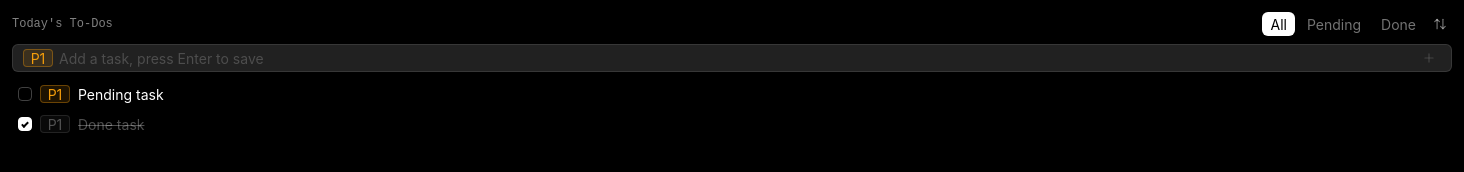
HeaderSchedulePanel › 状态过滤切换：待完成 / 已完成
The width and height of the screenshot is (1464, 172).
Check: the button "Pending task" is shown, box [78,84,1386,104]
Check: the button "Done task" is shown, box [78,114,1386,134]
Click the button "Pending": (1334, 24) [1299,12,1369,36]
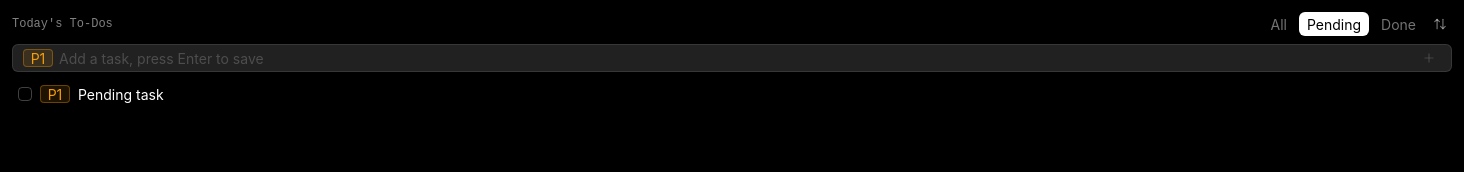
Check: the button "Pending task" is shown, box [78,84,1386,104]
Check: the button "Done task" is gone
Click the button "Done": (1399, 24) [1373,12,1424,36]
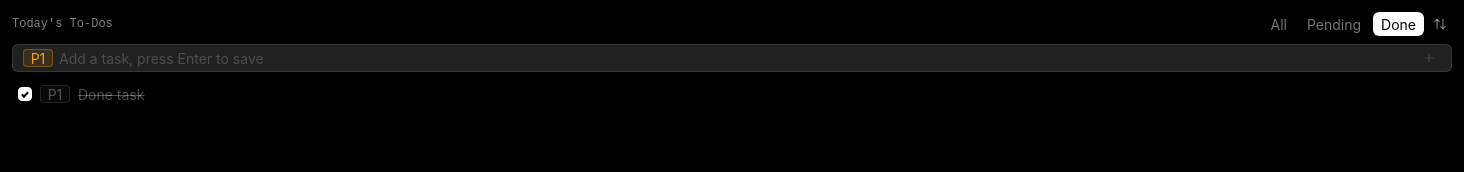
Check: the button "Pending task" is gone
Check: the button "Done task" is shown, box [78,84,1386,104]
Click the button "All": (1279, 24) [1262,12,1295,36]
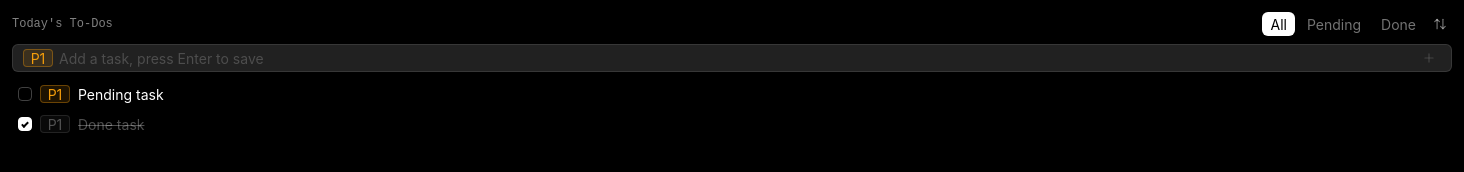
Check: the button "Done task" is shown, box [78,114,1386,134]
Check: the button "Pending task" is shown, box [78,84,1386,104]
